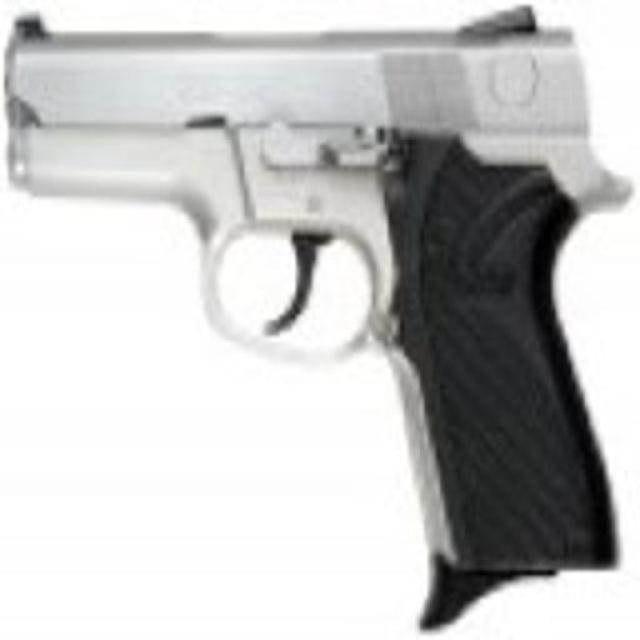pistol: (11, 5, 631, 612)
